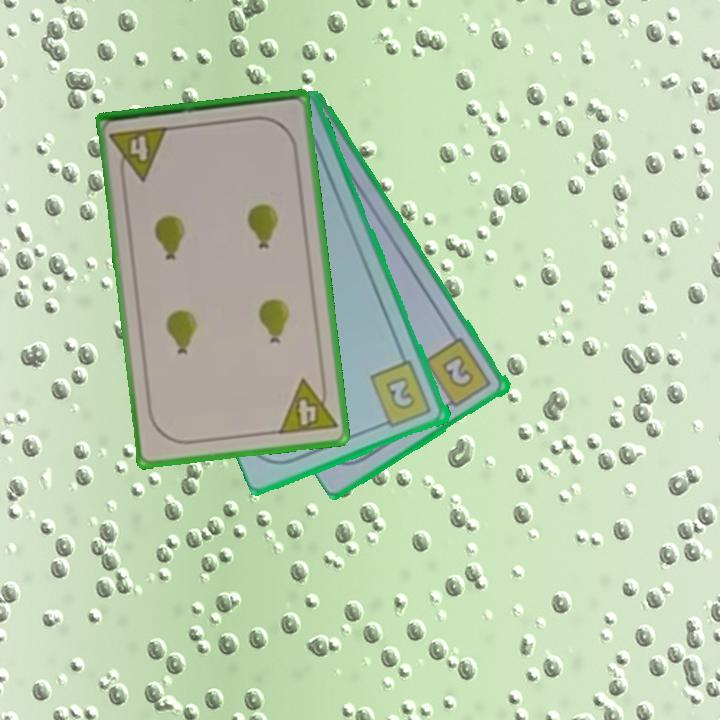2b: (422, 334, 495, 413), (367, 357, 436, 431)
4p: (275, 373, 340, 438), (107, 123, 172, 185)
